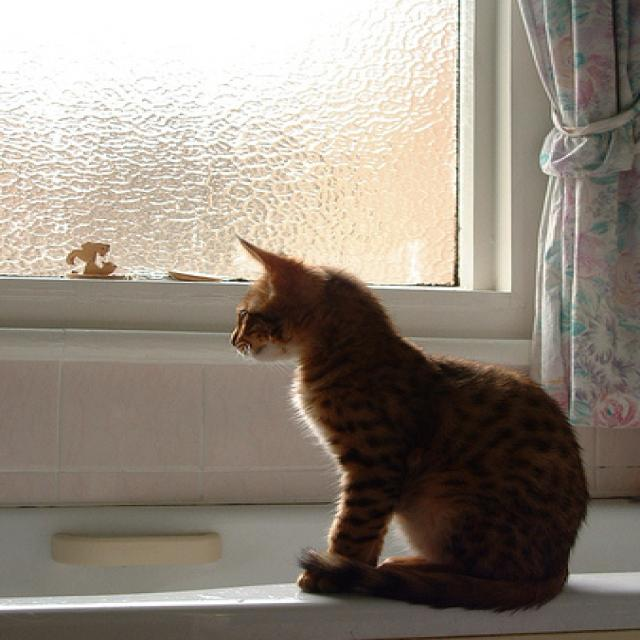Bengal: (217, 227, 606, 628)
